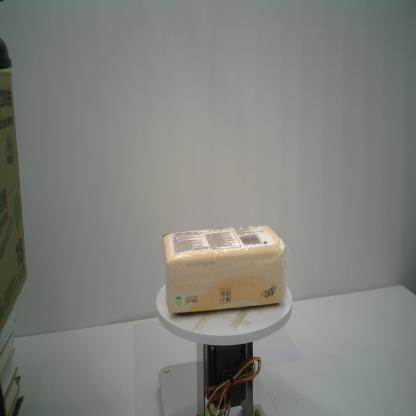Tissue: (160, 224, 290, 315)
